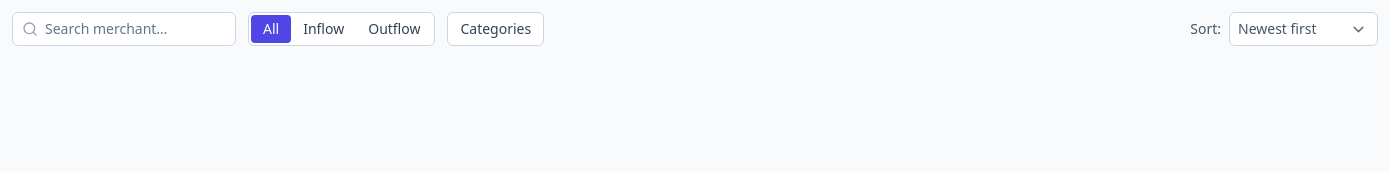
Filters › shows the backend's category names, and the raw code when it has no name
Click the heading "Categories" at x=496, y=29, box [448,12,544,46]
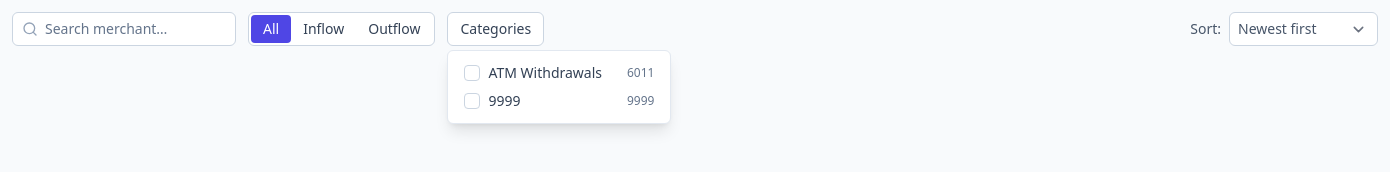
Expected: the text "ATM Withdrawals" is shown, [488,63,619,83]
Expected: the text "9999" is shown 2 times, [488,91,520,110]; [627,93,654,109]
